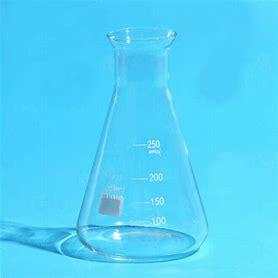Titrarion: (73, 22, 210, 263)
